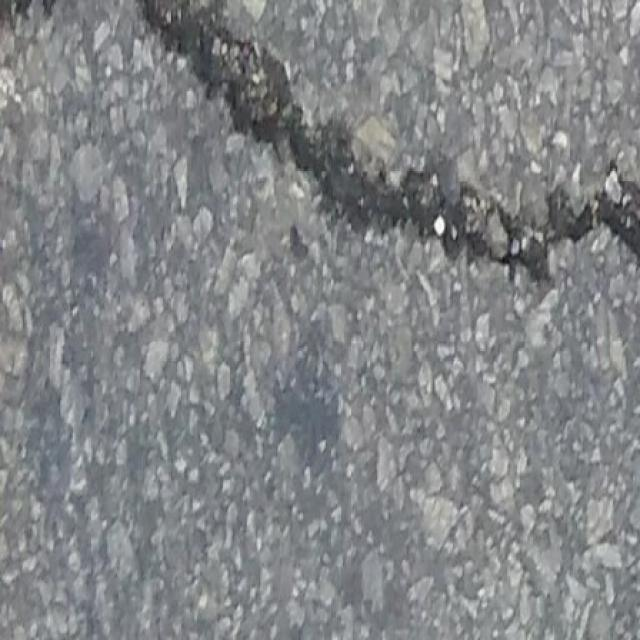diagonal crack: (138, 0, 639, 294)
